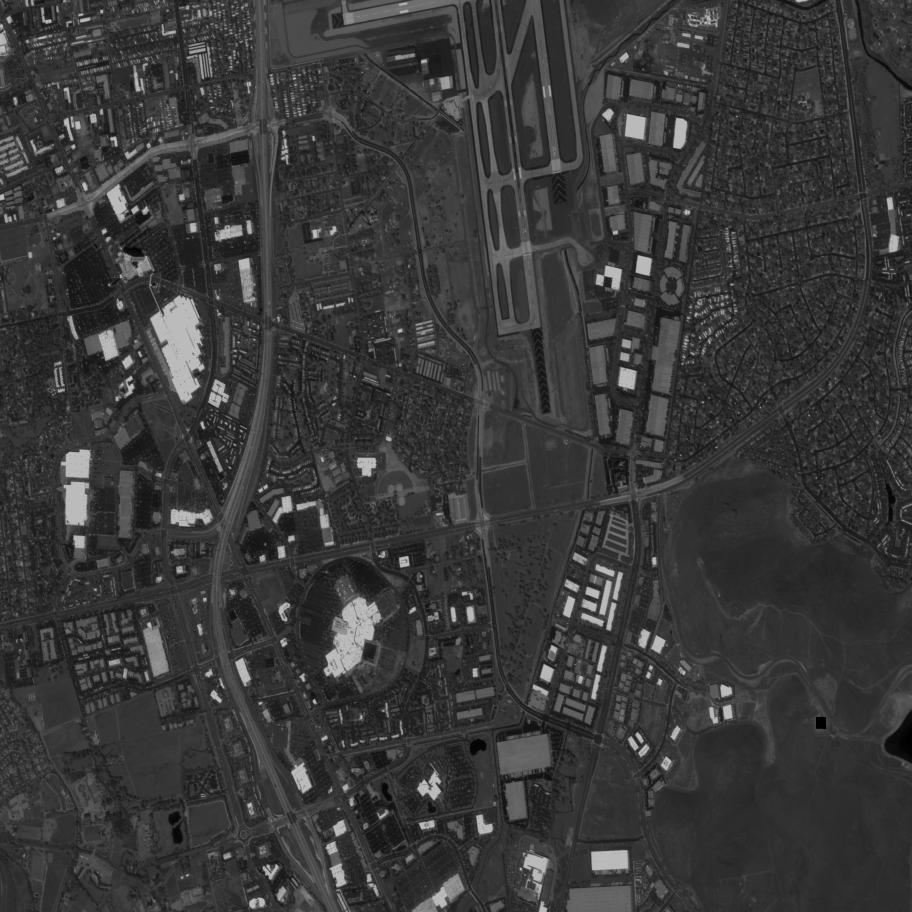storage-tank: (816, 718, 826, 728)
